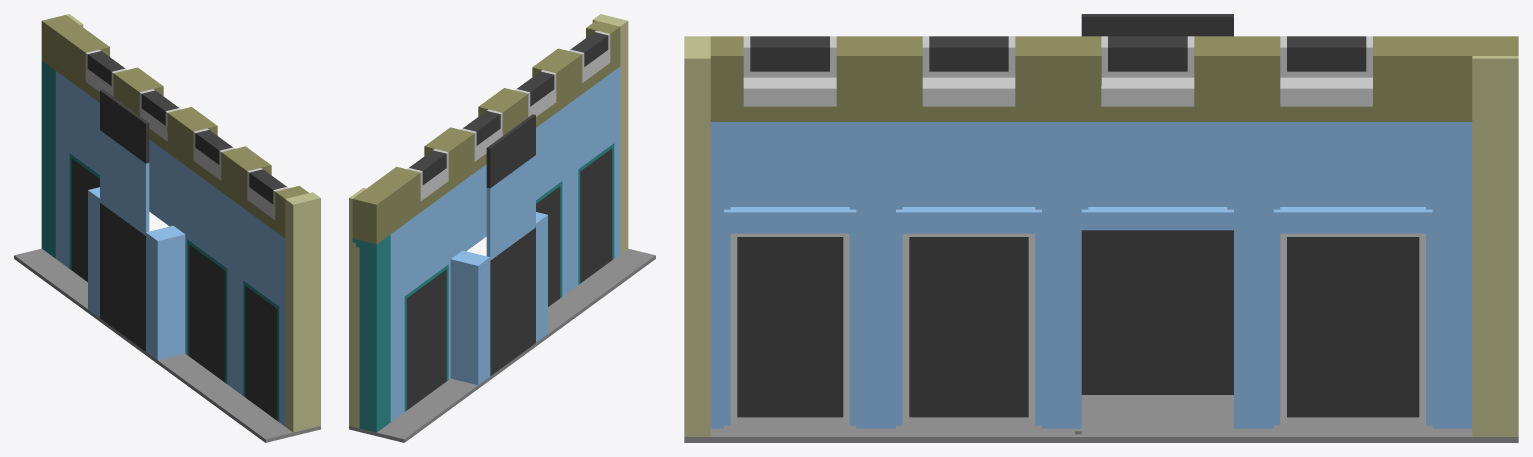
The model's file is Buildings2.obj.
3 renders of one model, left to right at view 1: azimuth 30°, elevation 25°; view 2: azimuth 150°, elevation 25°; view 3: azimuth 270°, elevation 25°, orthographic. The views are drawn at different scales.
Size of the model in its own units: 16 by 64 by 126.
Materials: 1 (1 with a texture image).
